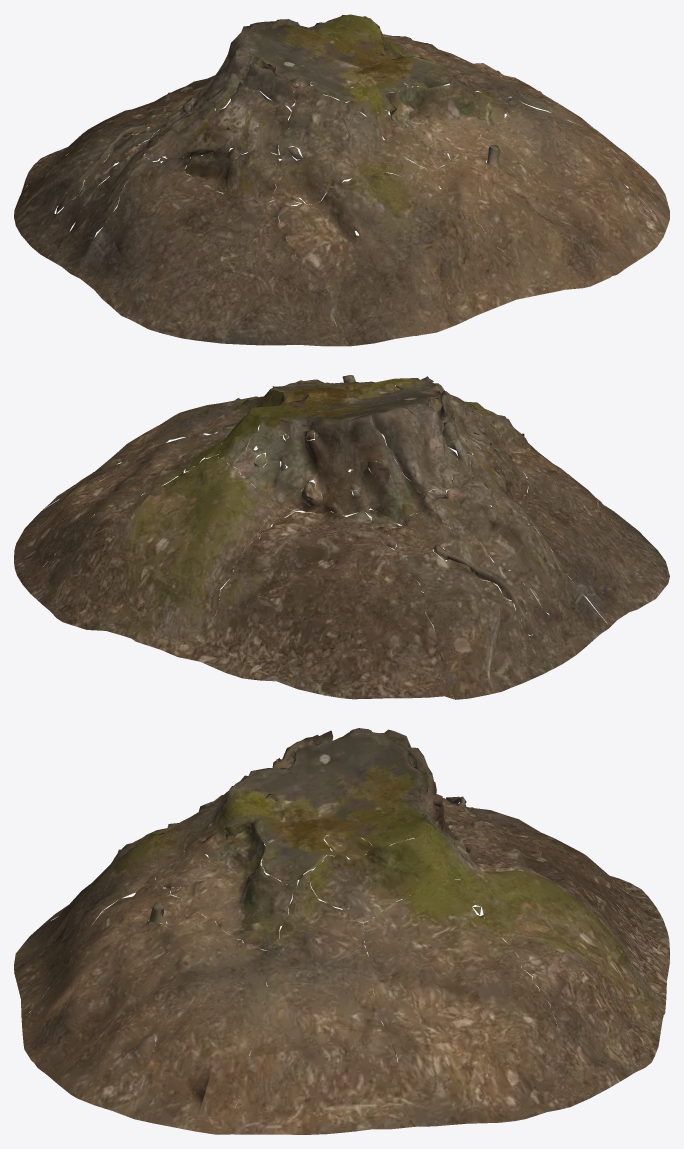
File: tree_stump_02.glb
3 renders of one model, top to bottom at view 1: azimuth 30°, elevation 25°; view 2: azimuth 150°, elevation 25°; view 3: azimuth 270°, elevation 25°, orthographic. The views are drawn at different scales.
Visible parts, largest first — view 1: tree_stump_02; view 2: tree_stump_02; view 3: tree_stump_02.
Part boxes in pixels (bbox=[...]): tree_stump_02: bbox=[14, 14, 669, 346]; tree_stump_02: bbox=[14, 375, 669, 699]; tree_stump_02: bbox=[14, 728, 669, 1134].
Size of the model in its own units: 1.52 by 0.5213 by 1.39.
1 material, 1 textured.
